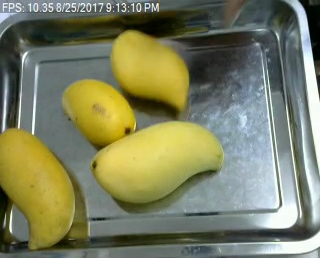Mango: (89, 119, 224, 205), (0, 125, 80, 252), (110, 29, 193, 111), (61, 76, 136, 145)
